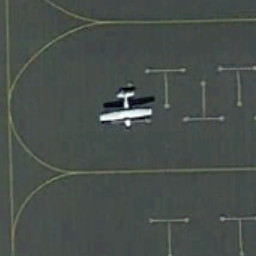Airplane: (90, 69, 167, 135)
